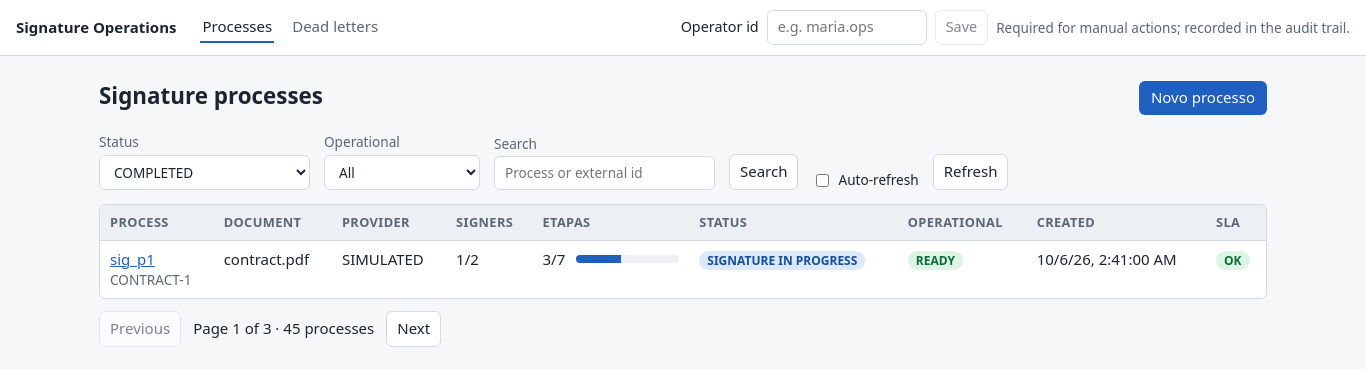
Test: process list › paginates without losing the filters
Expected: the text "Page 1 of 3 · 45 processes" is shown, [193,318,374,340]
Expected: the button "Previous" is disabled, [99,311,181,347]
Click the button "Next": [414, 329] box [386,311,441,347]
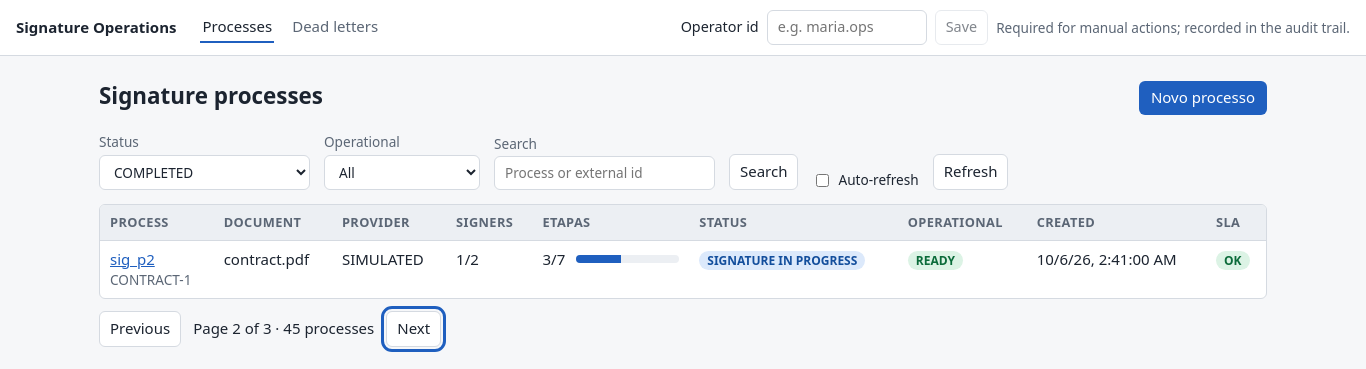
Now the text "Page 2 of 3 · 45 processes" is shown, box [193,318,374,340]
Now the link "sig_p2" is shown, box [110,249,155,269]
Click the button "Next": [414, 329] box [386,311,441,347]
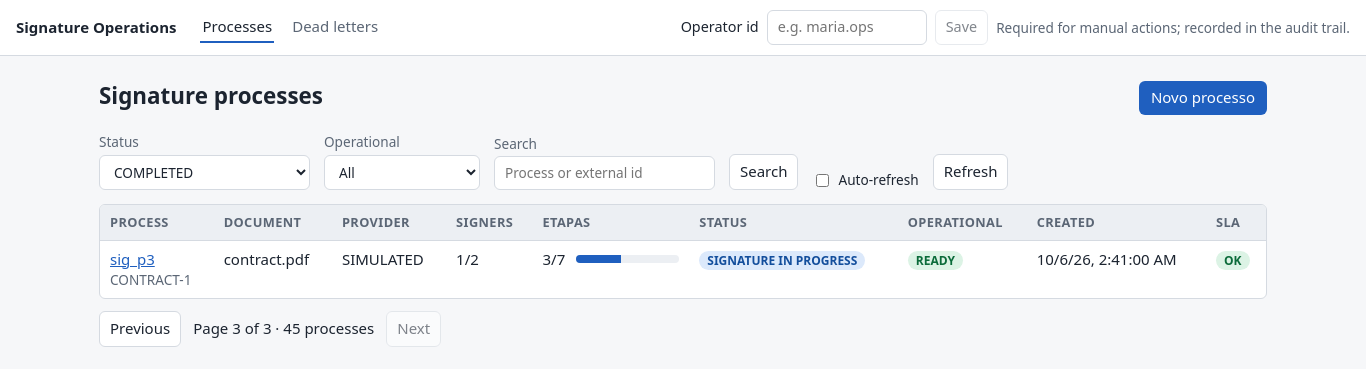
Now the text "Page 3 of 3 · 45 processes" is shown, box [193,318,374,340]
Now the button "Next" is disabled, box [386,311,441,347]
